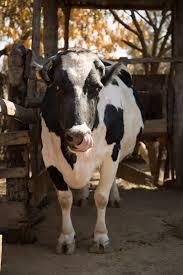cow: (31, 49, 143, 254)
